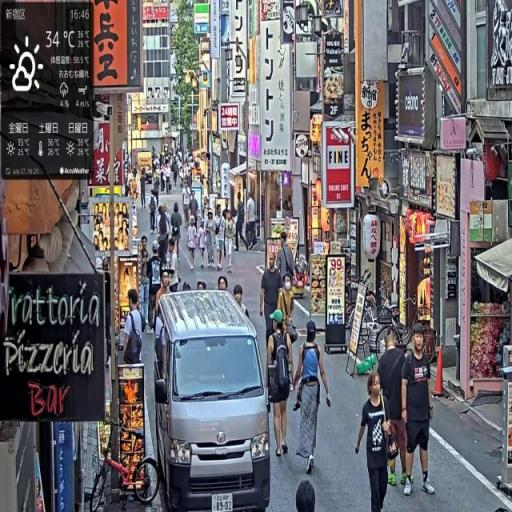person: (400, 322, 437, 501), (293, 320, 333, 477), (355, 371, 399, 512), (267, 309, 297, 459), (138, 235, 152, 332), (214, 206, 227, 274), (246, 192, 259, 251), (206, 210, 218, 269), (198, 221, 207, 271), (140, 169, 148, 210)
